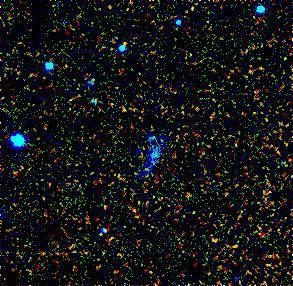star: (176, 0, 206, 22)
